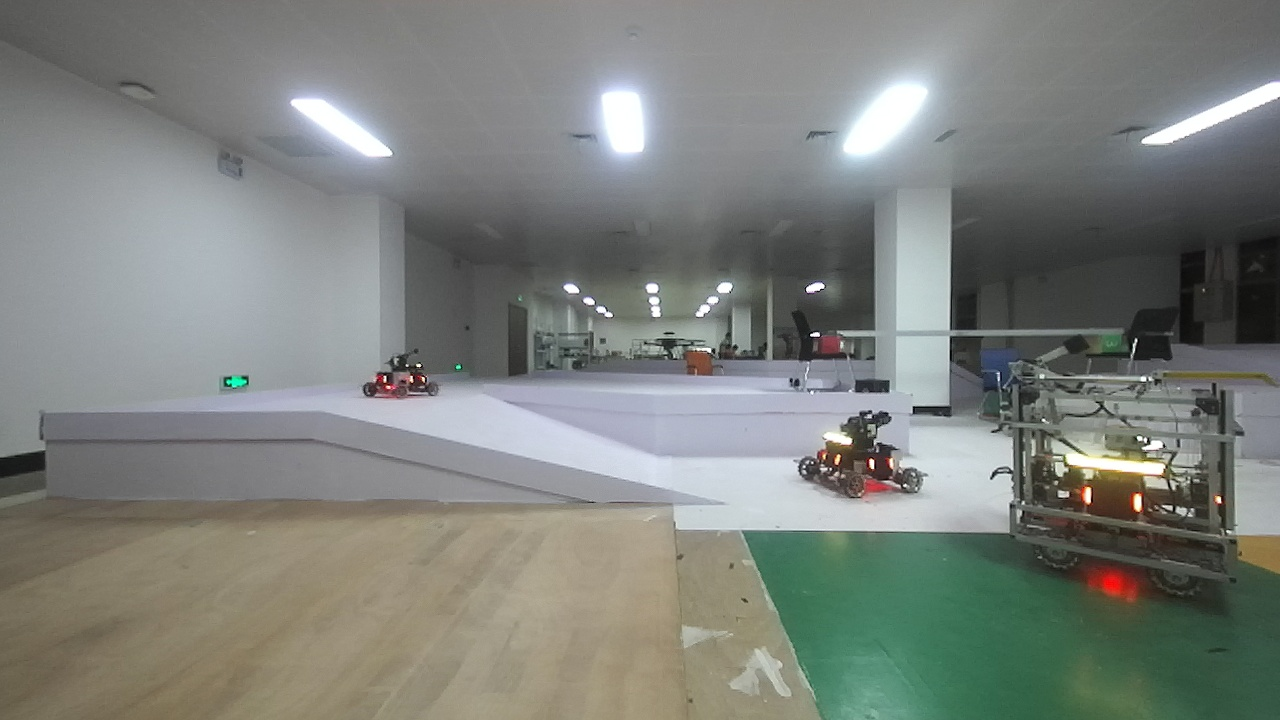car: (999, 363, 1255, 613), (806, 415, 926, 509), (356, 345, 450, 405)
